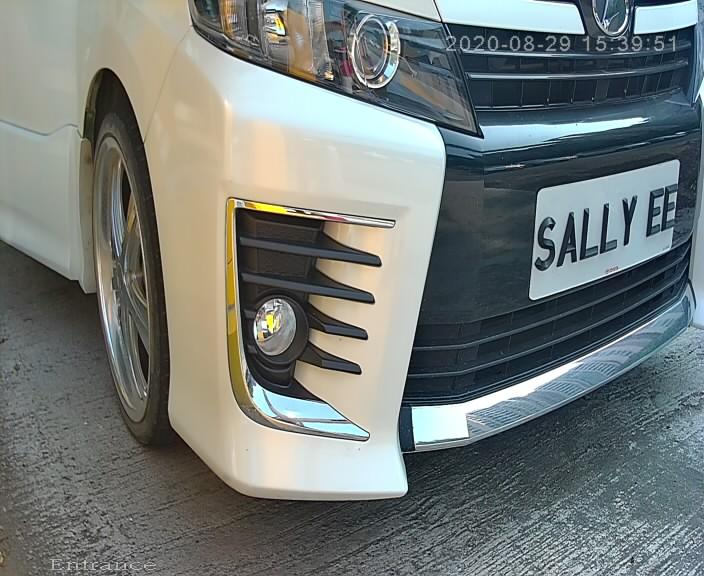License Plate: (529, 152, 686, 299)
